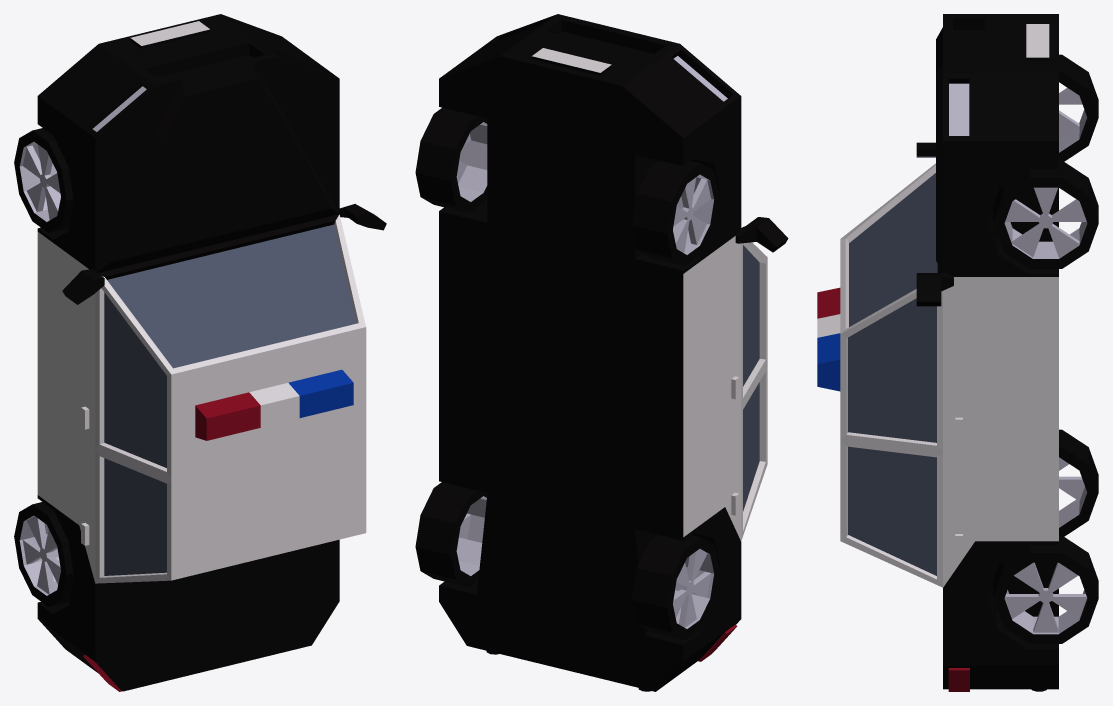
File: Police_Sedan.glb
3 renders of one model, left to right at view 1: azimuth 30°, elevation 25°; view 2: azimuth 150°, elevation 25°; view 3: azimuth 270°, elevation 25°, orthographic.
Parts seen in each view (by area): view 1: Mesh_0; view 2: Mesh_0; view 3: Mesh_0.
Part boxes in pixels (x1,y1,x2,y2): Mesh_0: [14, 14, 386, 691]; Mesh_0: [415, 14, 788, 691]; Mesh_0: [817, 14, 1098, 691].
Bounding box in the file's own units: 2.81 × 5.23 × 2.19.
